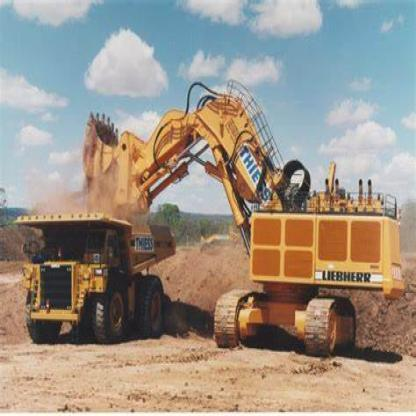dump_truck: (11, 198, 179, 349)
excavator: (89, 89, 396, 351)
